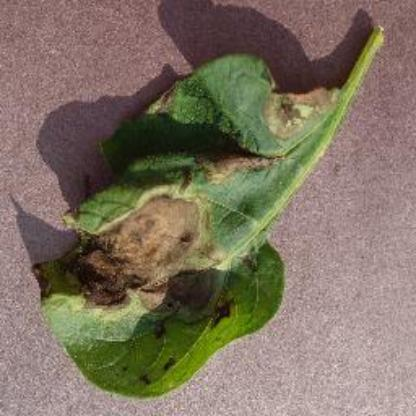Late-Blight: (30, 24, 390, 398)
